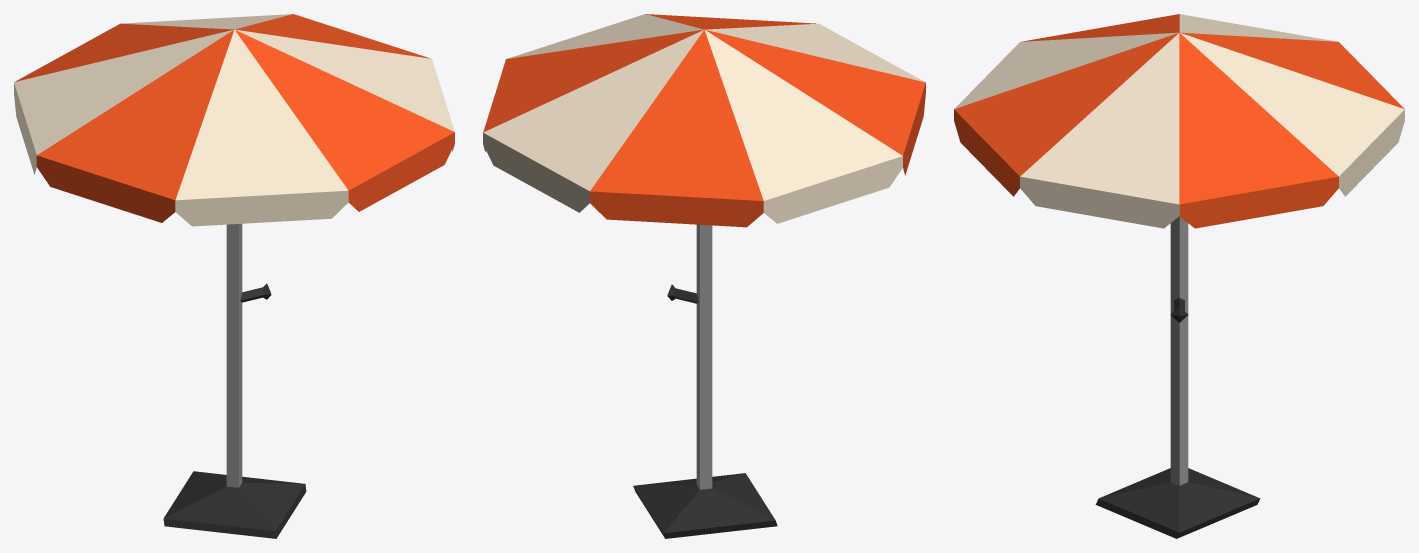
3 renders of one model, left to right at view 1: azimuth 30°, elevation 25°; view 2: azimuth 150°, elevation 25°; view 3: azimuth 270°, elevation 25°, orthographic.
Parts seen in each view (by area): view 1: du1; view 2: du1; view 3: du1.
Boxes of the visible parts, x1=… form: du1: x1=14, y1=14, x2=454, y2=538; du1: x1=483, y1=14, x2=925, y2=538; du1: x1=954, y1=14, x2=1404, y2=538.
Size of the model in its own units: 477 by 552 by 477.
